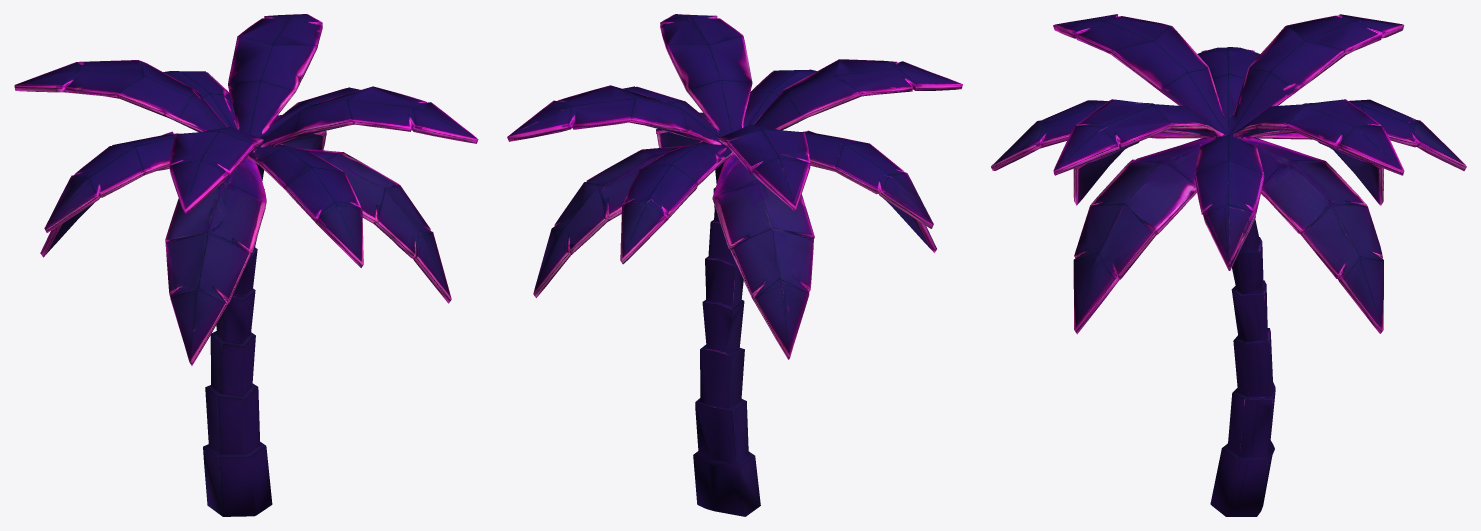
File: palm.glb
3 views of the same model, side by side, from view 1: azimuth 30°, elevation 25°; view 2: azimuth 150°, elevation 25°; view 3: azimuth 270°, elevation 25° (orthographic). The views are drawn at different scales.
Parts seen in each view (by area): view 1: Mesh_0; view 2: Mesh_0; view 3: Mesh_0.
Boxes of the visible parts, x1,y1,x2,y2 form: Mesh_0: (14, 14, 478, 516); Mesh_0: (507, 14, 962, 516); Mesh_0: (991, 14, 1466, 516).
Bounding box in the file's own units: 1.9 × 1.9 × 1.9.
Materials: 1 (1 with a texture image).
